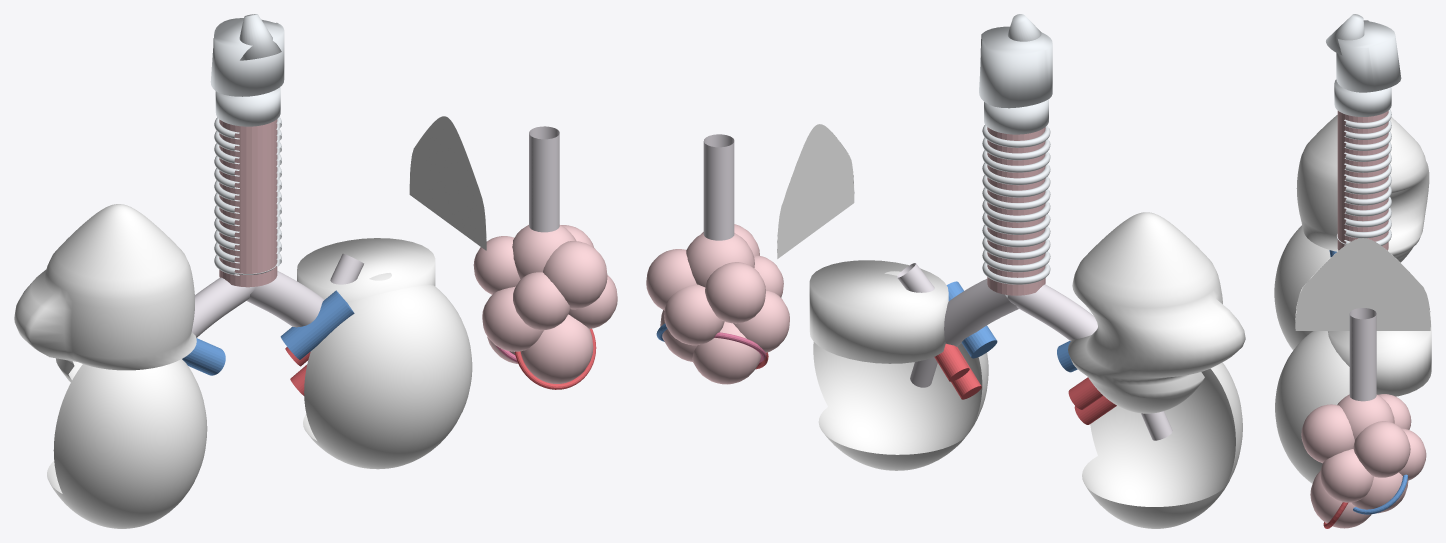
The model's file is lungs_realistic.glb.
3 renders of one model, left to right at view 1: azimuth 30°, elevation 25°; view 2: azimuth 150°, elevation 25°; view 3: azimuth 270°, elevation 25°, orthographic. The views are drawn at different scales.
Visible parts, largest first — view 1: Right_Inferior_Lobe, Left_Superior_Lobe, Left_Inferior_Lobe, Trachea_Lumen, Right_Superior_Lobe, Right_Middle_Lobe, Thyroid_Cartilage, Alveolus_11, Terminal_Bronchiole, Alveolus_4, Right_Primary_Bronchus, Alveolus_5 (+11 smaller); view 2: Left_Superior_Lobe, Left_Inferior_Lobe, Right_Inferior_Lobe, Right_Middle_Lobe, Right_Superior_Lobe, Thyroid_Cartilage, Trachea_Lumen, Terminal_Bronchiole, Alveolus_3, Right_Primary_Bronchus, Alveolus_10, Alveolus_8 (+9 smaller); view 3: Right_Superior_Lobe, Left_Superior_Lobe, Right_Inferior_Lobe, Right_Middle_Lobe, Trachea_Lumen, Thyroid_Cartilage, Left_Inferior_Lobe, Terminal_Bronchiole, Alveolus_2, Alveolus_4, Alveolus_6, Cricoid_Cartilage (+18 smaller).
Boxes of the visible parts, x1,y1,x2,y2 form: Right_Inferior_Lobe: (303, 273, 472, 469); Left_Superior_Lobe: (14, 204, 196, 382); Left_Inferior_Lobe: (47, 359, 207, 528); Trachea_Lumen: (219, 119, 277, 287); Right_Superior_Lobe: (409, 116, 486, 250); Right_Middle_Lobe: (297, 238, 435, 302); Thyroid_Cartilage: (210, 18, 284, 96); Alveolus_11: (520, 314, 593, 383); Terminal_Bronchiole: (529, 126, 559, 232); Alveolus_4: (543, 241, 607, 309); Right_Primary_Bronchus: (246, 271, 324, 327); Alveolus_5: (513, 272, 570, 330); Left_Superior_Lobe: (1068, 212, 1245, 413); Left_Inferior_Lobe: (1082, 362, 1242, 528); Right_Inferior_Lobe: (813, 271, 988, 470); Right_Middle_Lobe: (809, 260, 948, 363); Right_Superior_Lobe: (777, 124, 854, 258); Thyroid_Cartilage: (979, 26, 1052, 108); Trachea_Lumen: (987, 127, 1045, 295); Terminal_Bronchiole: (703, 134, 734, 240); Alveolus_3: (705, 262, 765, 323); Right_Primary_Bronchus: (944, 279, 1018, 346); Alveolus_10: (692, 321, 760, 384); Alveolus_8: (664, 284, 724, 345); Right_Superior_Lobe: (1295, 238, 1430, 330); Left_Superior_Lobe: (1296, 115, 1429, 262); Right_Inferior_Lobe: (1275, 331, 1349, 483); Right_Middle_Lobe: (1328, 324, 1431, 396); Trachea_Lumen: (1337, 110, 1388, 250); Thyroid_Cartilage: (1336, 20, 1401, 92); Left_Inferior_Lobe: (1274, 225, 1330, 350); Terminal_Bronchiole: (1349, 308, 1376, 401); Alveolus_2: (1353, 421, 1410, 477); Alveolus_4: (1301, 404, 1354, 463); Alveolus_6: (1320, 449, 1373, 502); Cricoid_Cartilage: (1334, 79, 1391, 116).
Size of the model in its own units: 7.85 by 6.16 by 2.09.
